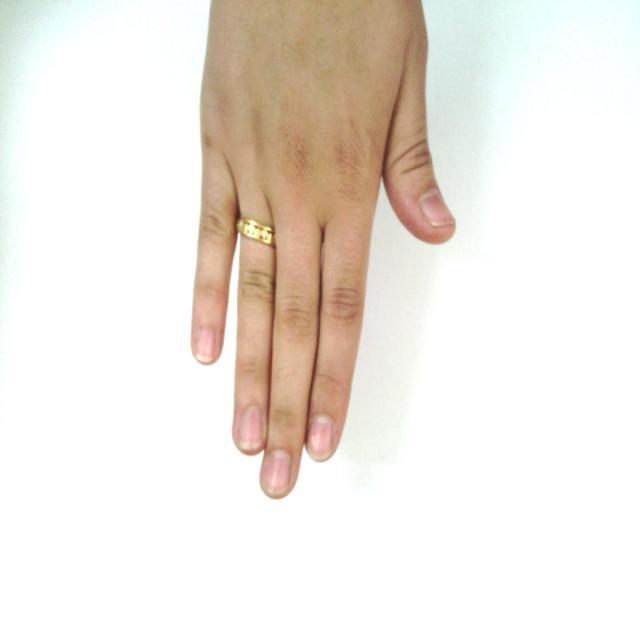Fingernail: (421, 190, 454, 227), (263, 451, 290, 496), (307, 416, 333, 460), (238, 406, 262, 450), (196, 328, 216, 361)
